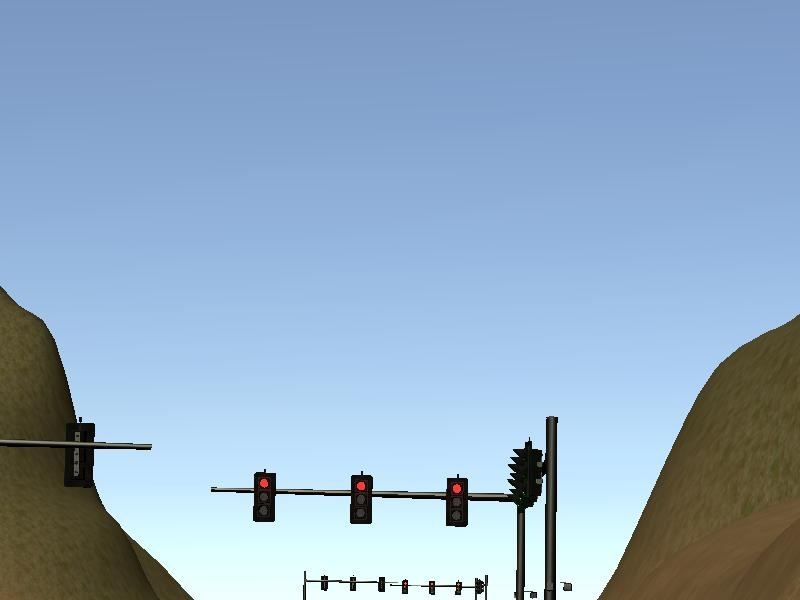red: (250, 468, 277, 526), (446, 478, 469, 528), (351, 475, 371, 525)
